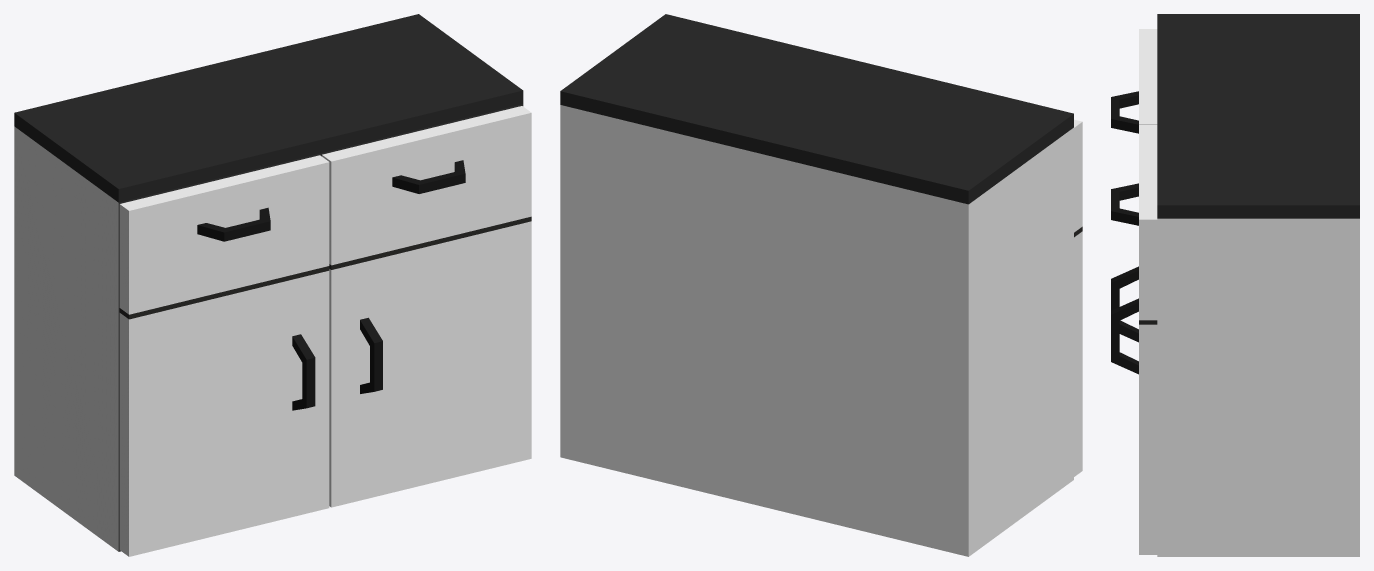
File: Kitchen_Cabinet_4A.fbx
The picture shows the model from 3 angles, left to right: view 1: azimuth 30°, elevation 25°; view 2: azimuth 150°, elevation 25°; view 3: azimuth 270°, elevation 25°; orthographic projection. The views are drawn at different scales.
Visible parts, largest first — view 1: polySurface966; view 2: polySurface966; view 3: polySurface966.
Part boxes in pixels (x1,y1,x2,y2): polySurface966: (14, 14, 531, 556); polySurface966: (560, 14, 1082, 556); polySurface966: (1111, 14, 1359, 556).
Size of the model in its own units: 1.56 by 1.34 by 0.8565.
Materials: 1 (1 with a texture image).
